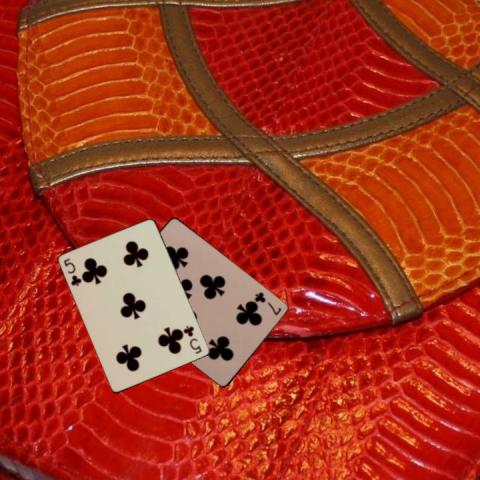5c: (182, 323, 204, 355), (61, 256, 83, 288)
7c: (252, 288, 283, 316)
